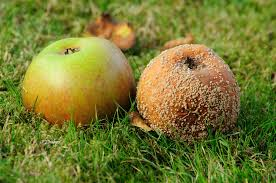apple: (25, 41, 134, 124)
damaged_apple: (136, 46, 241, 137)
